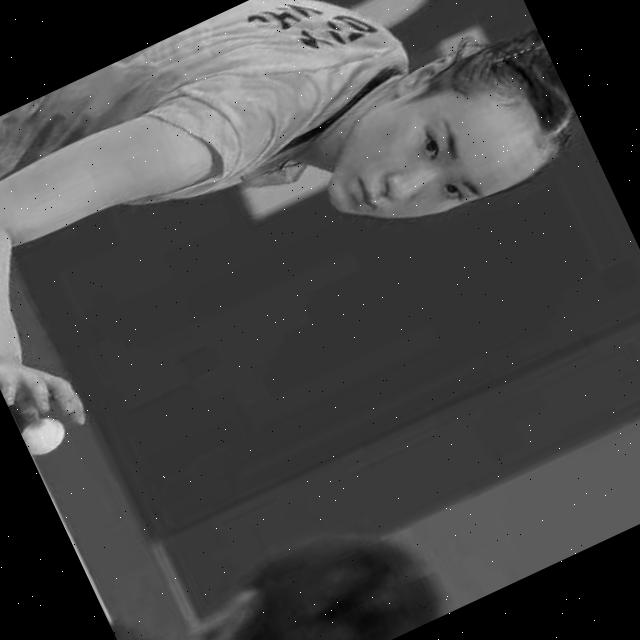ping-pong-ball: (16, 406, 80, 464)
